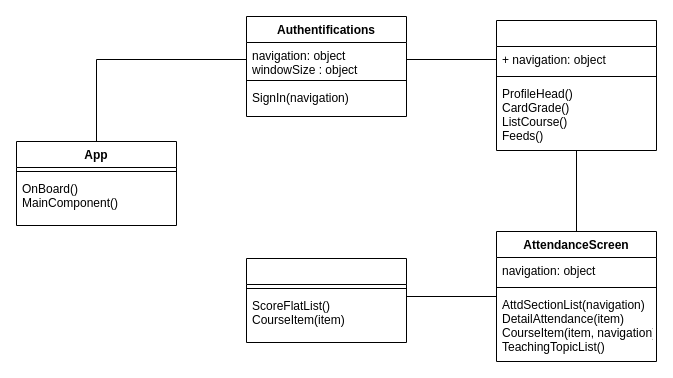
The diagram is 673 pixels wide and 378 high, and some of its shapes have lost their labels. Each missing label, with the box of its shape:
HomeScreen: (496, 20, 656, 150)
ScoreScreen: (246, 258, 406, 342)
